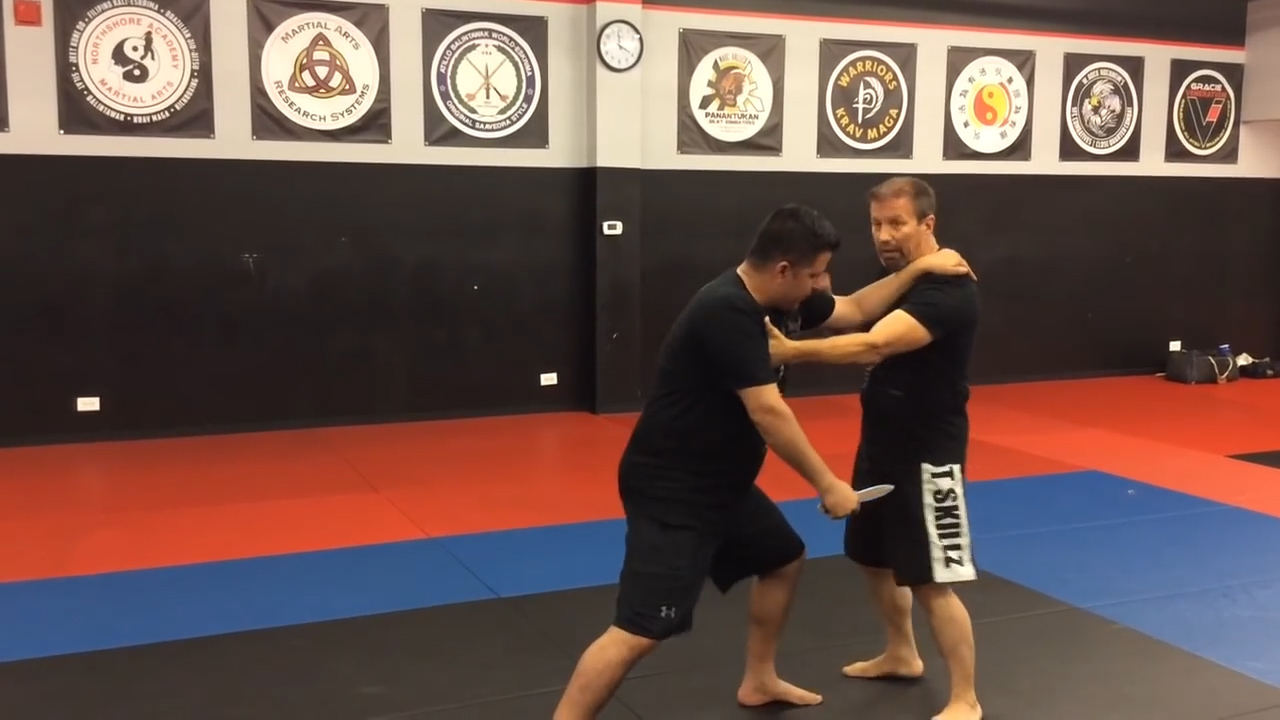knife: (815, 478, 897, 522)
